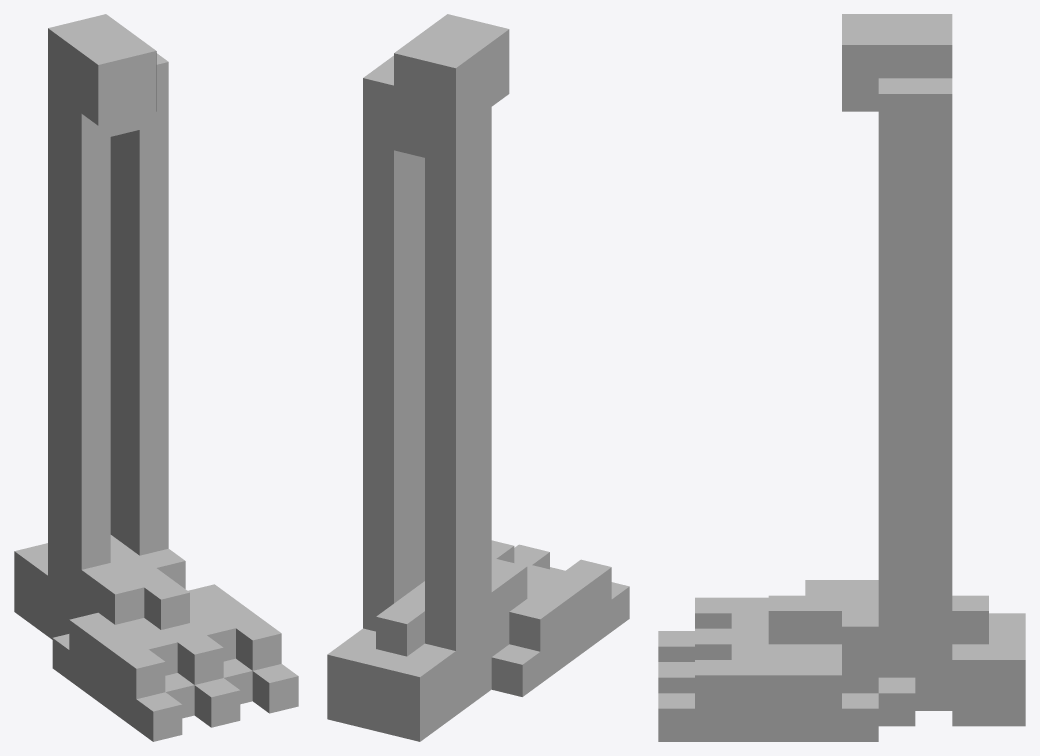
File: EnemySkeleton3-0.obj
3 views of the same model, side by side, from view 1: azimuth 30°, elevation 25°; view 2: azimuth 150°, elevation 25°; view 3: azimuth 270°, elevation 25° (orthographic). The views are drawn at different scales.
Size of the model in its own units: 0.5 by 2 by 1.
1 material, 1 textured.
